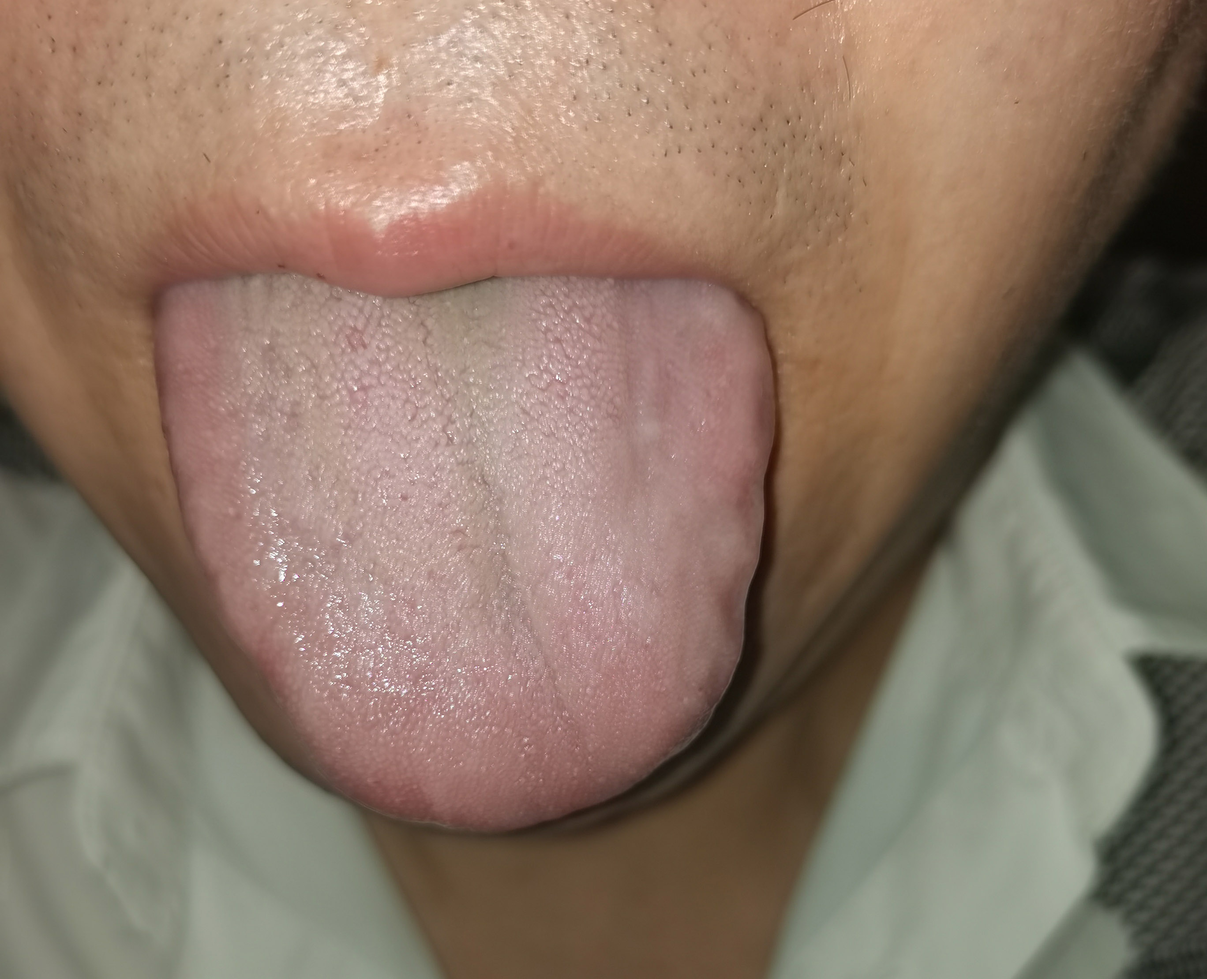baitaishe: (154, 269, 776, 832)
chihenshe: (708, 412, 776, 717)
